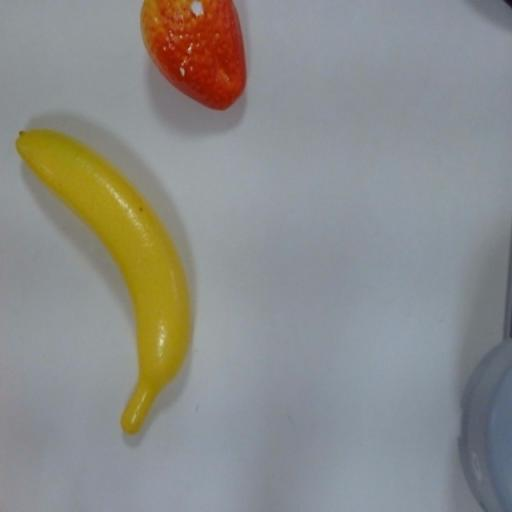Ripe: (12, 109, 194, 446), (136, 0, 258, 126)
